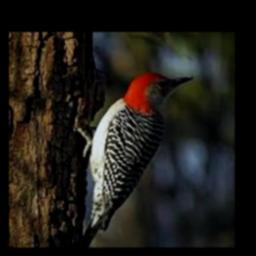Woodpecker: (79, 72, 193, 248)
